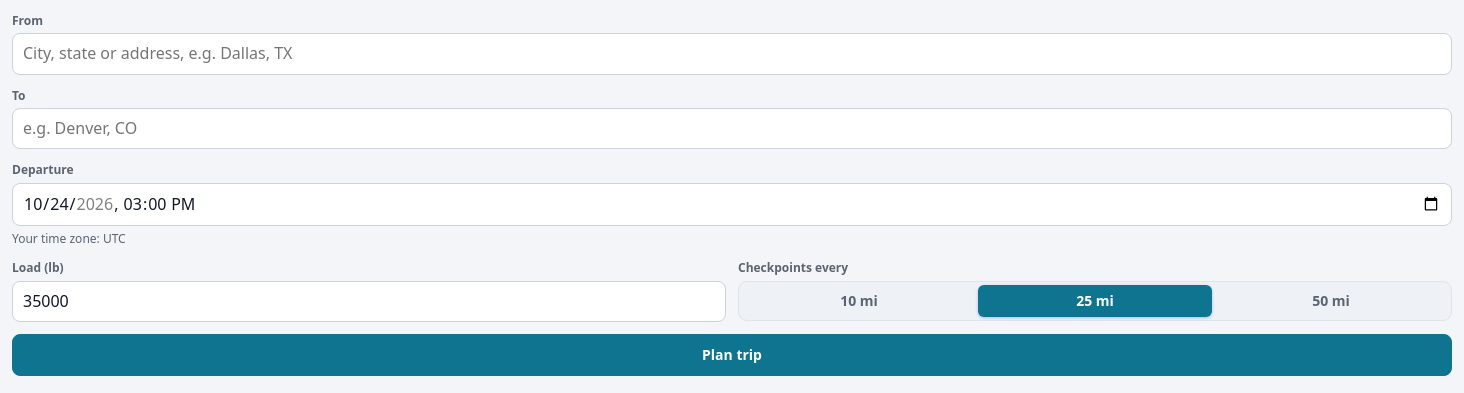
TripForm › suggests cities as a place is typed, and fills in the one chosen
This screenshot has width=1464, height=393.
Type "Denv" into the dropdown labelled "To" at coordinates (732, 129), box x1=12 y1=108 x2=1452 y2=149
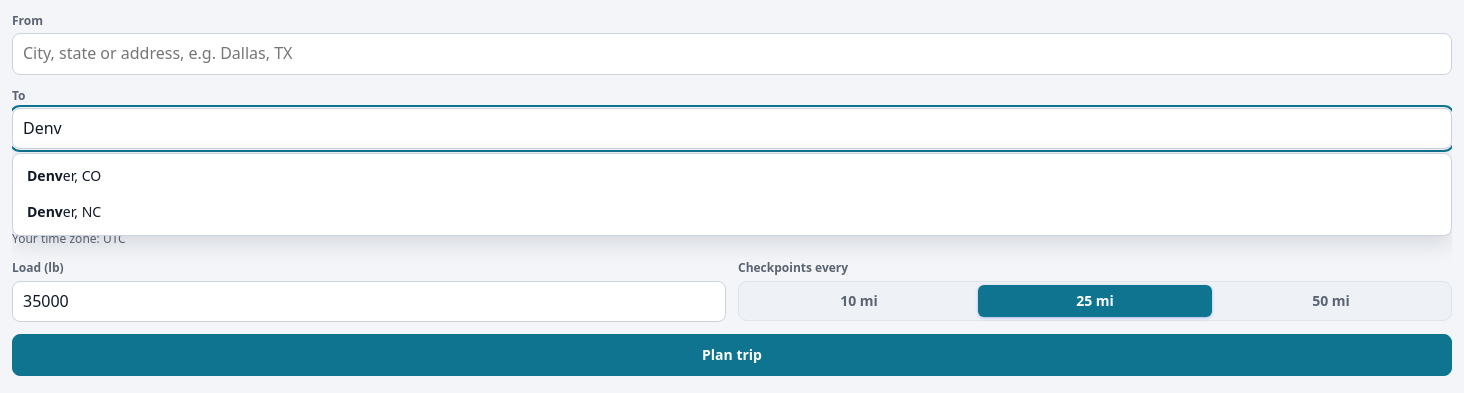
Click the option "Denver, CO" at coordinates (64, 176), box x1=27 y1=166 x2=101 y2=185
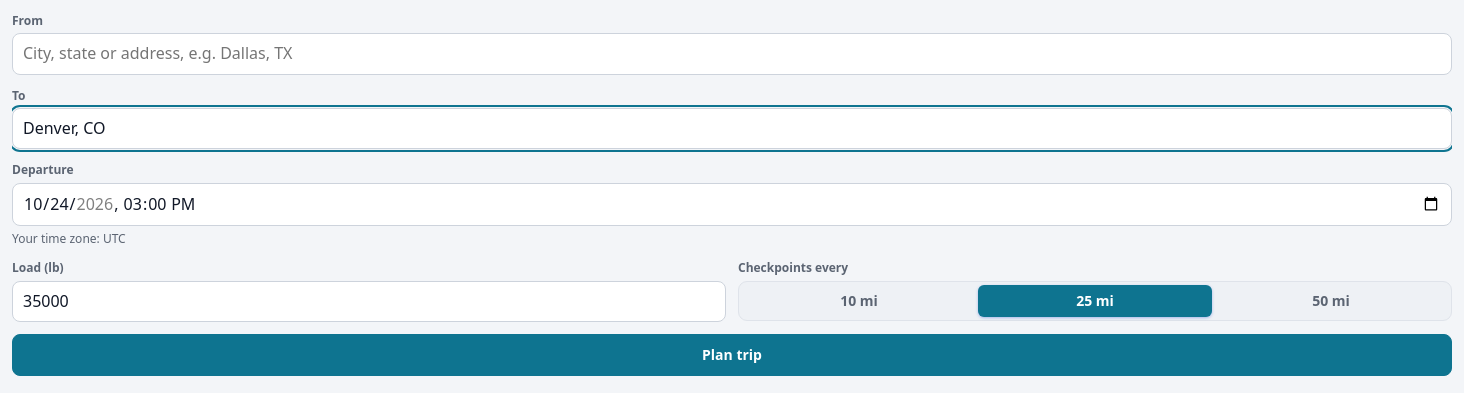
Check: the dropdown labelled "To" holds "Denver, CO", box x1=12 y1=108 x2=1452 y2=149
Check: the list is gone
